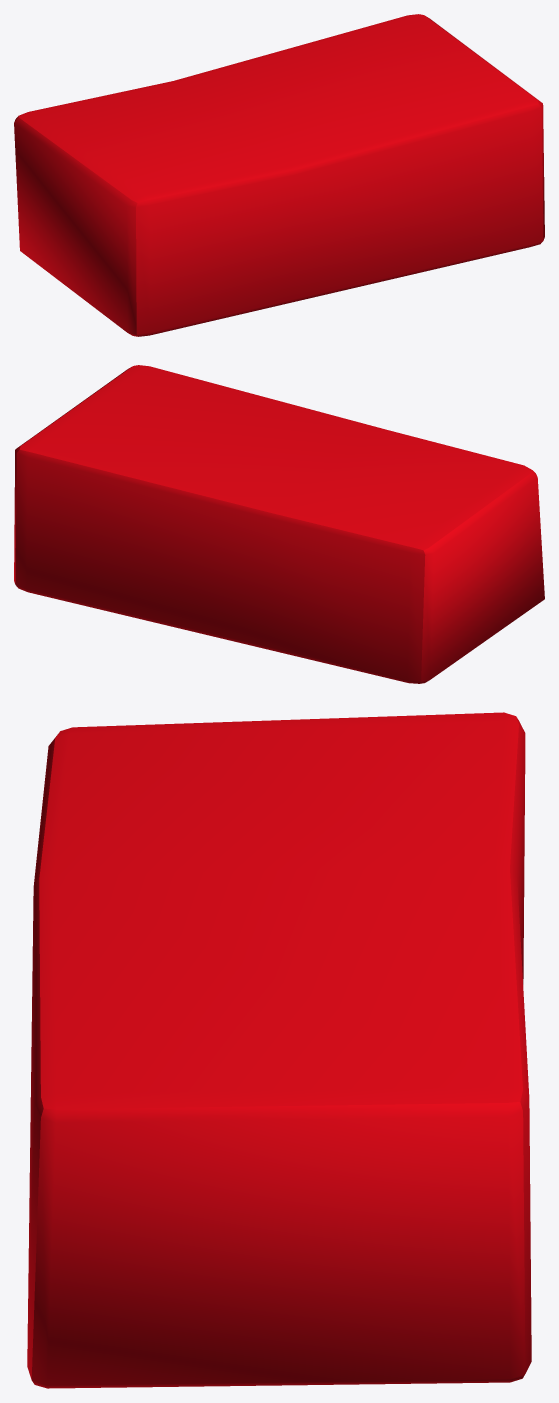
File: SM_Brick_001.fbx
3 views of the same model, one above another, from view 1: azimuth 30°, elevation 25°; view 2: azimuth 150°, elevation 25°; view 3: azimuth 270°, elevation 25° (orthographic). The views are drawn at different scales.
Parts seen in each view (by area): view 1: Brick; view 2: Brick; view 3: Brick.
Boxes of the visible parts, x1=… form: Brick: x1=14, y1=14, x2=544, y2=336; Brick: x1=14, y1=365, x2=544, y2=683; Brick: x1=27, y1=712, x2=531, y2=1388.
Bounding box in the file's own units: 21 × 7 × 11.
